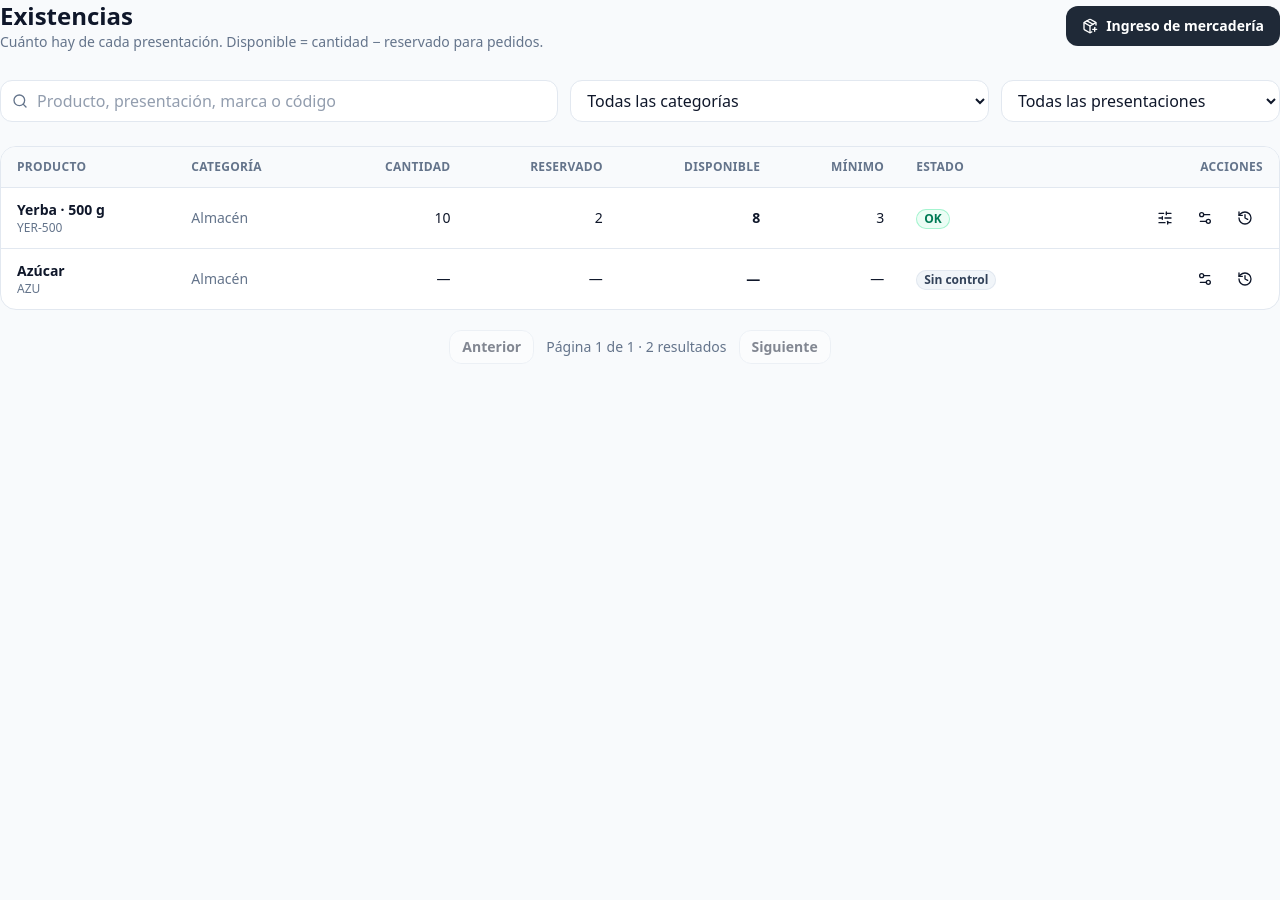
Test: Stock · Existencias › avisa si un ajuste dejaría menos que lo reservado
Click the button named "Ajustar stock de Yerba · 500 g" at {"x": 1165, "y": 218}, box [1147,200,1183,236]
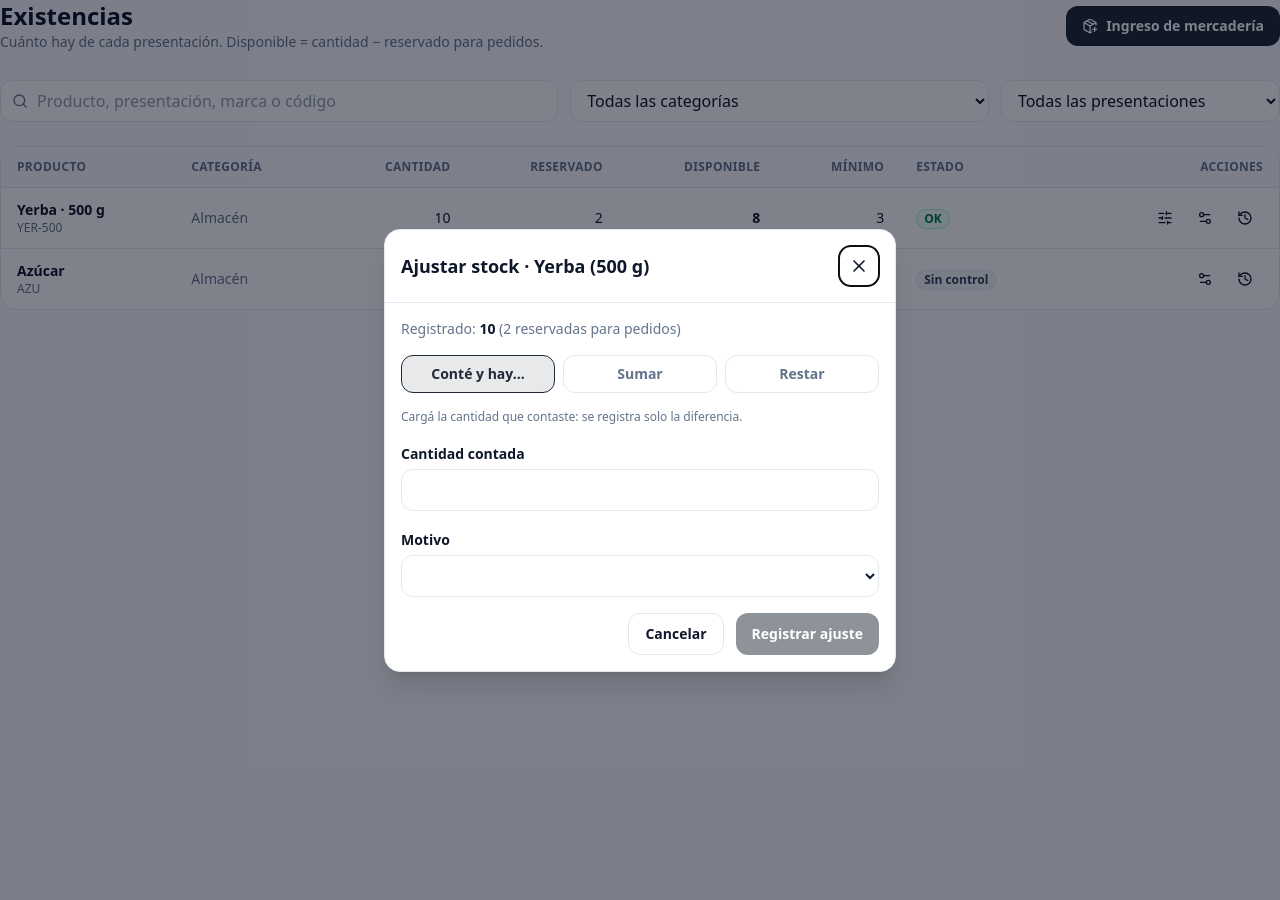
Click the radio button labelled "Restar" at {"x": 802, "y": 374}, box [725,354,879,392]
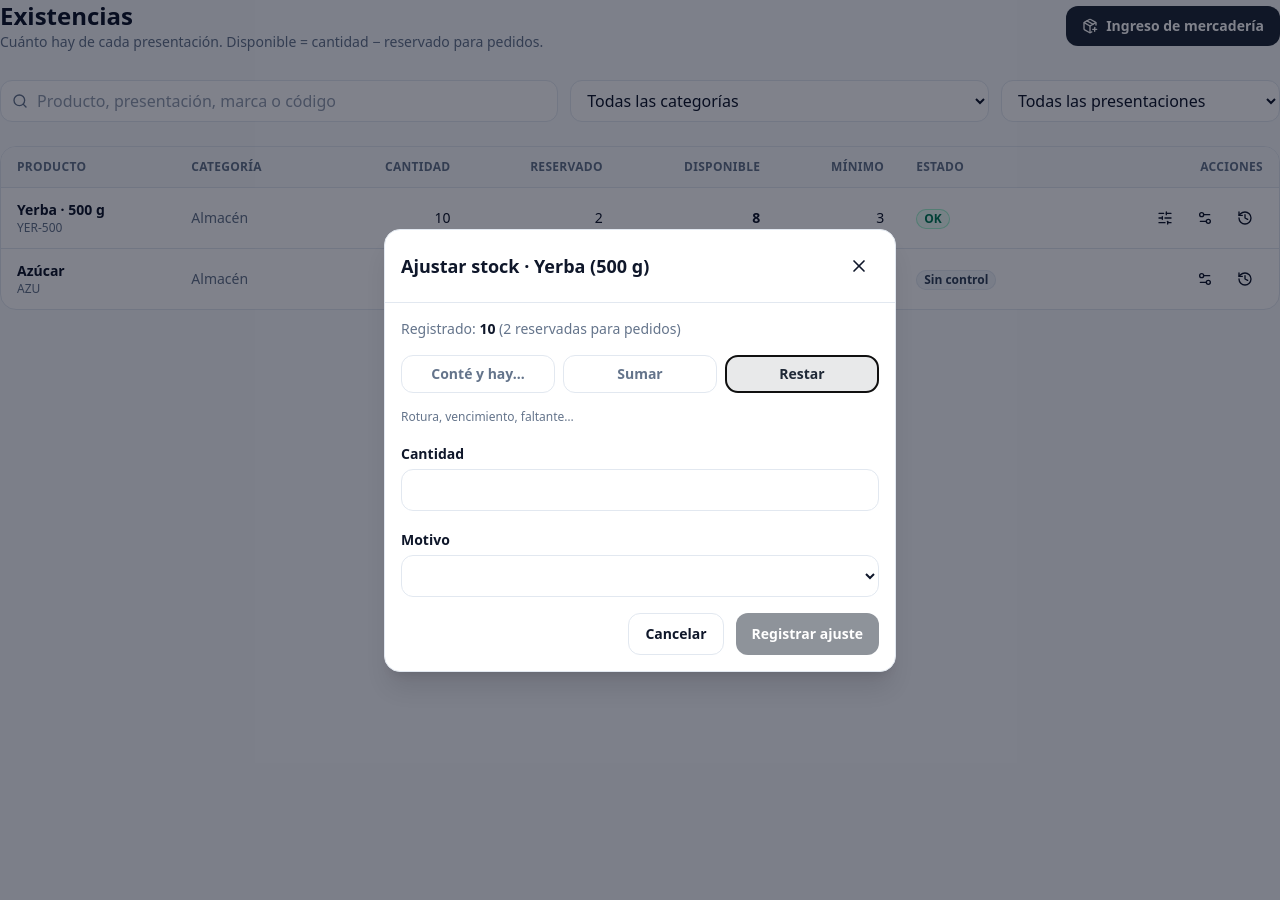
Type "9" into the number field labelled "Cantidad" at {"x": 640, "y": 490}, box [401,468,879,510]
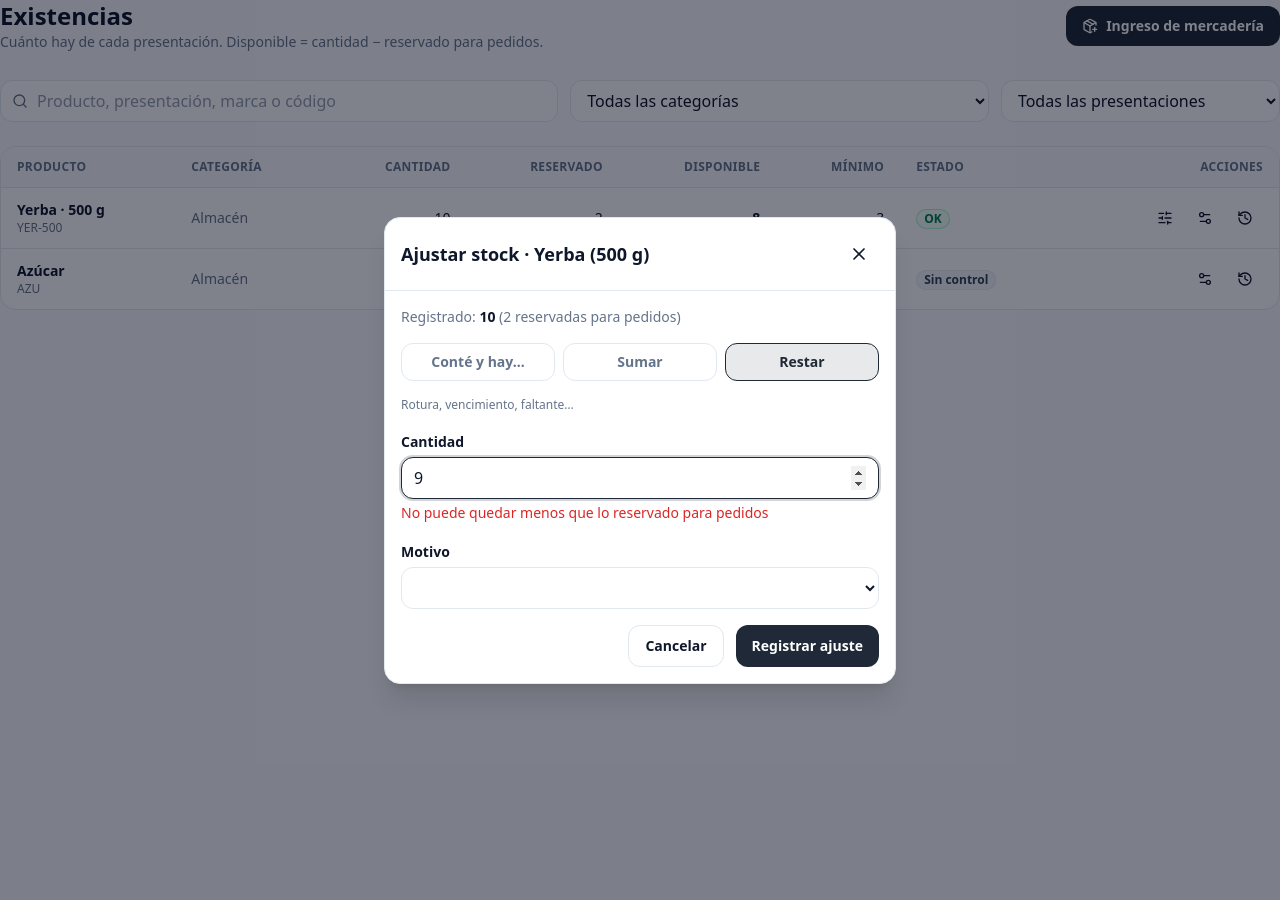
Now the text "No puede quedar menos que lo reservado para pedidos" is shown, box [401,502,768,522]
